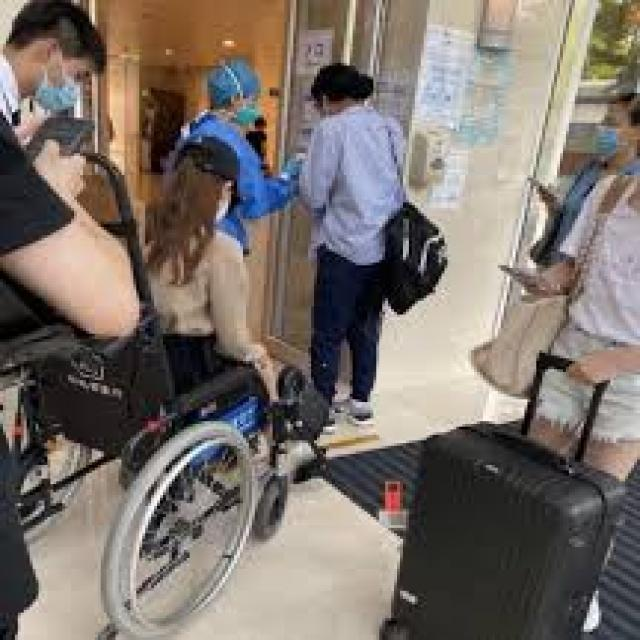wheelchairs: (24, 150, 311, 626)
